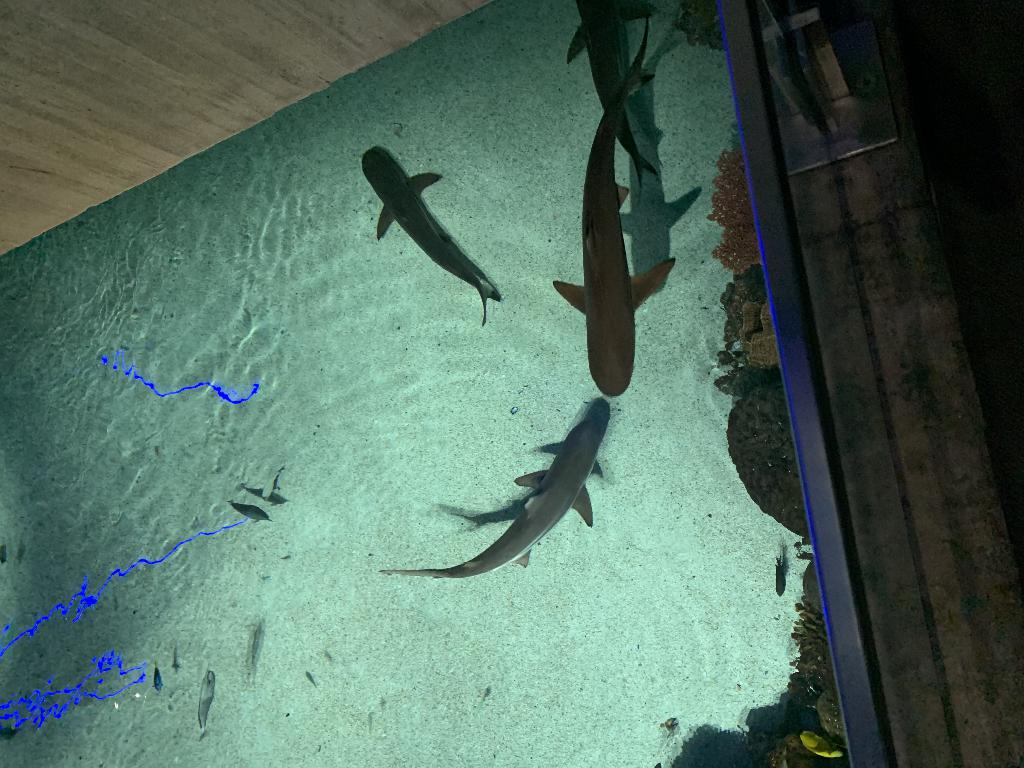Shark: (553, 13, 673, 398), (379, 422, 600, 579), (362, 147, 500, 325)
